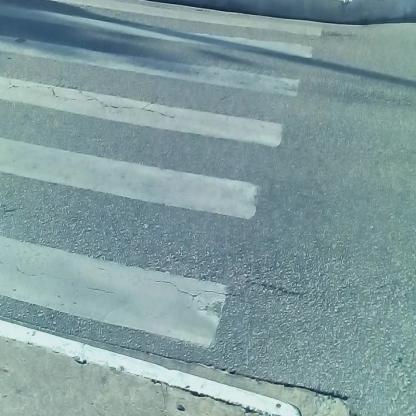crosswalk: (1, 26, 326, 363)
